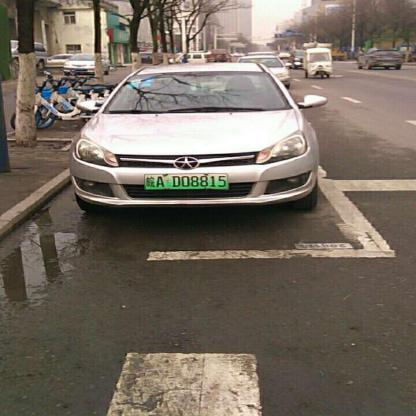lp: (145, 173, 226, 189)
